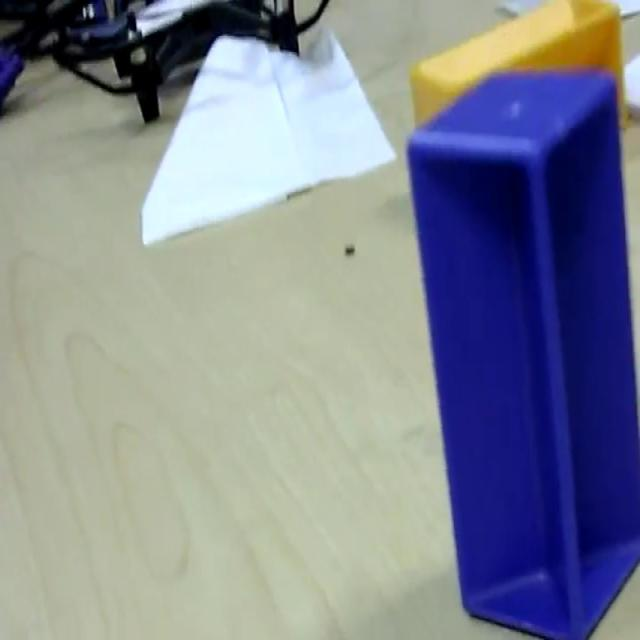blue_block: (404, 65, 638, 636)
yellow_block: (408, 0, 628, 128)
